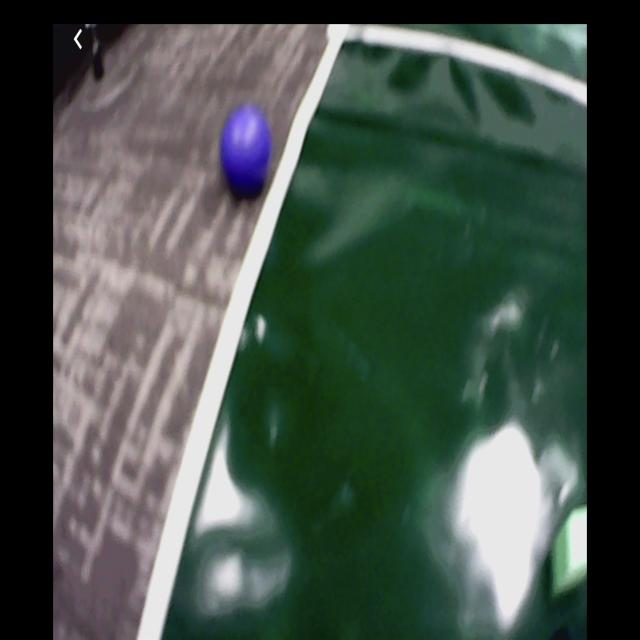ball: (221, 108, 271, 194)
